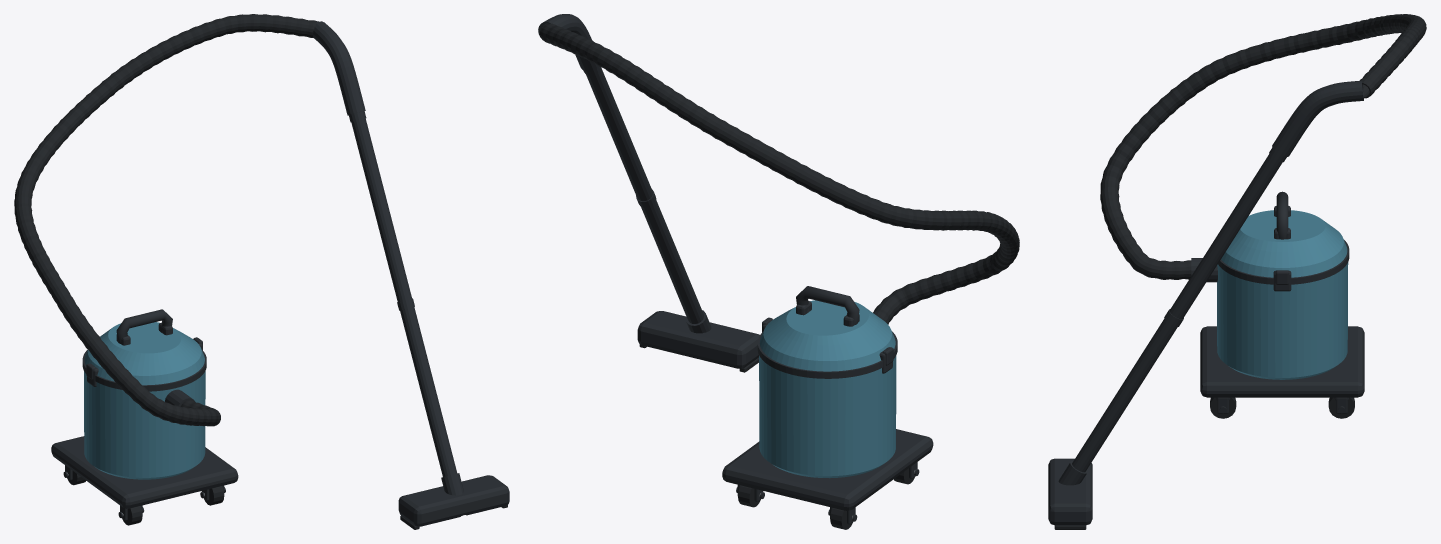
Rendered from A-NEW-20261026-WET-DRY-VACUUM-001_LOD1_R1.fbx.
3 views of the same model, side by side, from view 1: azimuth 30°, elevation 25°; view 2: azimuth 150°, elevation 25°; view 3: azimuth 270°, elevation 25° (orthographic). The views are drawn at different scales.
Parts seen in each view (by area): view 1: continuous corrugated hollow hose, closed wall drum, wide caster base, sculpted motor cover, wide floor nozzle shell, hollow wand section 2, hollow wand section 1, curved hollow suction handgrip, arched carry handle, black lid seam; view 2: continuous corrugated hollow hose, closed wall drum, sculpted motor cover, wide caster base, wide floor nozzle shell, hollow wand section 2, hollow wand section 1, black lid seam, arched carry handle, curved hollow suction handgrip; view 3: closed wall drum, continuous corrugated hollow hose, sculpted motor cover, wide caster base, hollow wand section 2, hollow wand section 1, wide floor nozzle shell, curved hollow suction handgrip, black lid seam, arched carry handle.
Part boxes in pixels (x1,y1,x2,y2): continuous corrugated hollow hose: (14, 14, 318, 426); closed wall drum: (84, 371, 205, 479); wide caster base: (51, 436, 238, 508); sculpted motor cover: (84, 322, 204, 385); wide floor nozzle shell: (398, 475, 509, 526); hollow wand section 2: (351, 118, 411, 301); hollow wand section 1: (397, 294, 456, 476); curved hollow suction handgrip: (313, 21, 365, 115); arched carry handle: (116, 309, 172, 343); black lid seam: (82, 349, 206, 391); continuous corrugated hollow hose: (539, 23, 1019, 324); closed wall drum: (759, 355, 896, 478); sculpted motor cover: (759, 300, 895, 371); wide caster base: (722, 429, 933, 510); wide floor nozzle shell: (637, 311, 759, 368); hollow wand section 2: (586, 68, 651, 201); hollow wand section 1: (641, 189, 703, 323); black lid seam: (757, 331, 897, 378); arched carry handle: (796, 286, 859, 324); curved hollow suction handgrip: (538, 14, 598, 71); closed wall drum: (1217, 262, 1348, 379); continuous corrugated hollow hose: (1100, 14, 1426, 279); sculpted motor cover: (1221, 210, 1347, 277); wide caster base: (1200, 326, 1364, 397); hollow wand section 2: (1171, 154, 1282, 319); hollow wand section 1: (1072, 307, 1182, 472); wide floor nozzle shell: (1048, 458, 1092, 525); curved hollow suction handgrip: (1272, 80, 1363, 156); black lid seam: (1218, 240, 1349, 284); arched carry handle: (1276, 191, 1288, 239).
Size of the model in its own units: 111 by 113 by 89.18.
